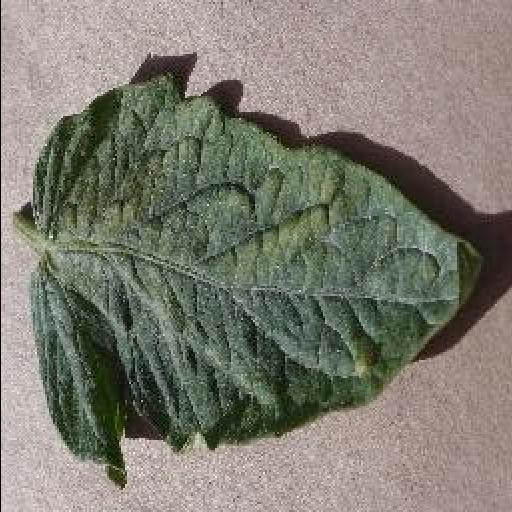disease_tomato: (26, 78, 480, 488)
